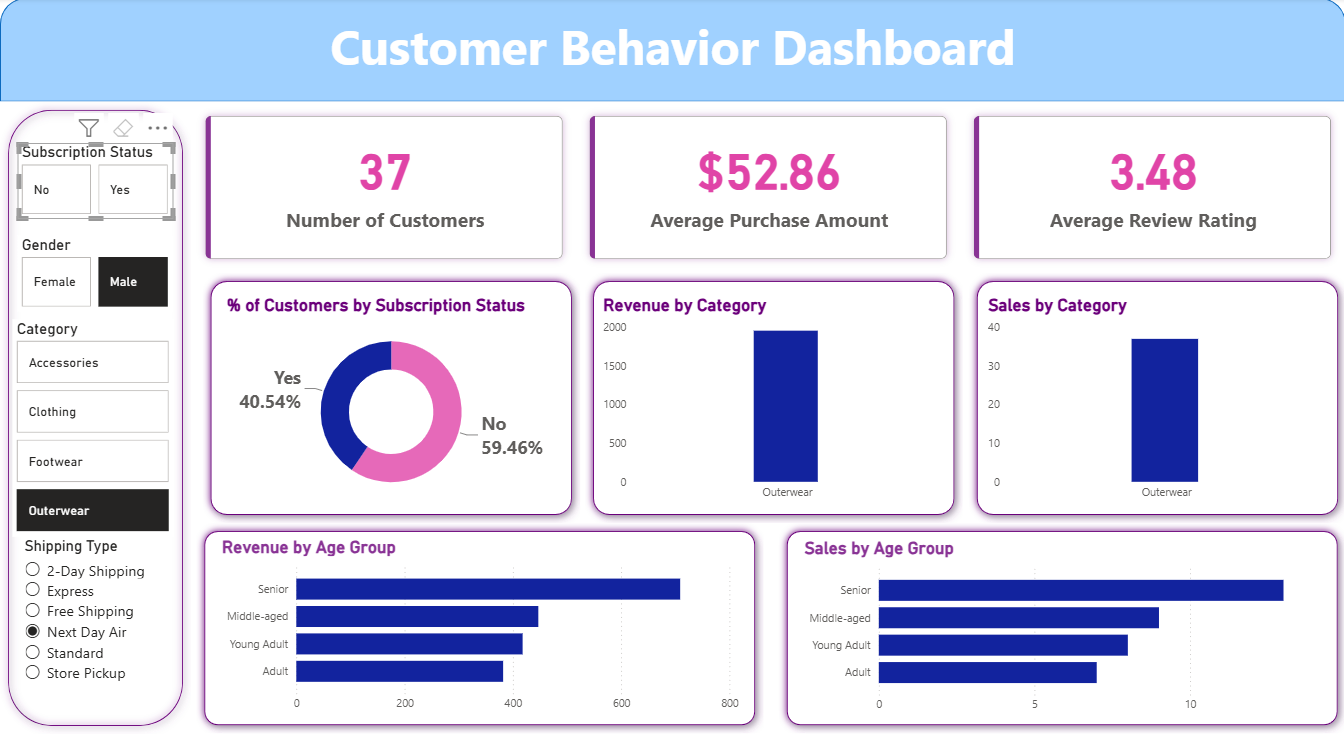

The page's visual inventory and layout, read from the dashboard file:
{"tool":"powerbi","page":{"name":"Page 1","canvas":[1500,820],"ordinal":0},"visuals":[{"type":"cardVisual","fields":{"Data":["public customer.Number of Customers","public customer.Average Purchase Amount","public customer.Average Review Rating"]},"box":[212.9,115.3,1286.5,191.6],"z":2000},{"type":"shape","box":[218.3,585.6,631.7,234.2],"z":2500,"group":"g1"},{"type":"shape","box":[0,0,1499.4,115.3],"z":3000},{"type":"textbox","box":[0,12.4,1499.4,102.9],"z":4000},{"type":"shape","box":[225.4,307,420.5,278.6],"z":5000},{"type":"donutChart","title":"% of Customers by Subscription Status","fields":{"Category":["public customer.subscription_status"],"Y":["CountNonNull(public customer.customer_id)"]},"box":[248.4,331.8,376.2,237.8],"z":6000},{"type":"shape","box":[1078.9,307,420.5,278.6],"z":7000},{"type":"shape","box":[652.1,307,420.5,278.6],"z":8000},{"type":"clusteredColumnChart","title":"Revenue by Category","fields":{"Y":["Sum(public customer.purchase_amount)"],"Category":["public customer.category"]},"box":[667.2,331.8,385.1,237.8],"z":9000},{"type":"clusteredColumnChart","title":"Sales by Category","fields":{"Y":["CountNonNull(public customer.customer_id)"],"Category":["public customer.category"]},"box":[1096.6,331.8,385.1,237.8],"z":10000},{"type":"shape","box":[0,115.3,212.9,704.5],"z":11000},{"type":"advancedSlicerVisual","fields":{"Values":["public customer.subscription_status"]},"box":[19.5,161.5,173.9,85.2],"z":12000},{"type":"advancedSlicerVisual","fields":{"Values":["public customer.gender"]},"box":[19.5,264.4,173.9,85.2],"z":13000},{"type":"advancedSlicerVisual","fields":{"Values":["public customer.category"]},"box":[13.9,357.9,179.7,242.3],"z":14000},{"type":"listSlicer","fields":{"Values":["public customer.shipping_type"]},"box":[22.3,600.2,168.5,220],"z":15000},{"type":"shape","box":[867.7,585.6,631.7,234.2],"z":16000},{"type":"clusteredBarChart","title":"Sales by Age Group","fields":{"Y":["CountNonNull(public customer.customer_id)"],"Category":["public customer.age_group"]},"box":[890.8,601.5,585.6,204.1],"z":17000},{"type":"clusteredBarChart","title":"Revenue by Age Group","fields":{"Y":["Sum(public customer.purchase_amount)"],"Category":["public customer.age_group"]},"box":[241.4,601.6,585.6,204.1],"z":17500,"group":"g1"},{"type":"group","id":"g1","title":"Group 1","box":[218.3,585.6,631.7,234.2],"z":17501}]}

Visuals, with their boxes in screenshot pixels (x1, y1, x2, y2), scaled from the page's 1500x820 canvas onto the 1344x734 screenshot:
cardVisual - public customer.Number of Customers x public customer.Average Purchase Amount: bbox=(191, 103, 1343, 275)
shape: bbox=(196, 524, 762, 733)
shape: bbox=(0, 0, 1343, 103)
textbox: bbox=(0, 11, 1343, 103)
shape: bbox=(202, 275, 579, 524)
"% of Customers by Subscription Status" donutChart: bbox=(223, 297, 560, 510)
shape: bbox=(967, 275, 1343, 524)
shape: bbox=(584, 275, 961, 524)
"Revenue by Category" clusteredColumnChart: bbox=(598, 297, 943, 510)
"Sales by Category" clusteredColumnChart: bbox=(983, 297, 1328, 510)
shape: bbox=(0, 103, 191, 733)
advancedSlicerVisual - public customer.subscription_status: bbox=(17, 145, 173, 221)
advancedSlicerVisual - public customer.gender: bbox=(17, 237, 173, 313)
advancedSlicerVisual - public customer.category: bbox=(12, 320, 173, 537)
listSlicer - public customer.shipping_type: bbox=(20, 537, 171, 733)
shape: bbox=(777, 524, 1343, 733)
"Sales by Age Group" clusteredBarChart: bbox=(798, 538, 1323, 721)
"Revenue by Age Group" clusteredBarChart: bbox=(216, 539, 741, 721)
"Group 1" group: bbox=(196, 524, 762, 733)
